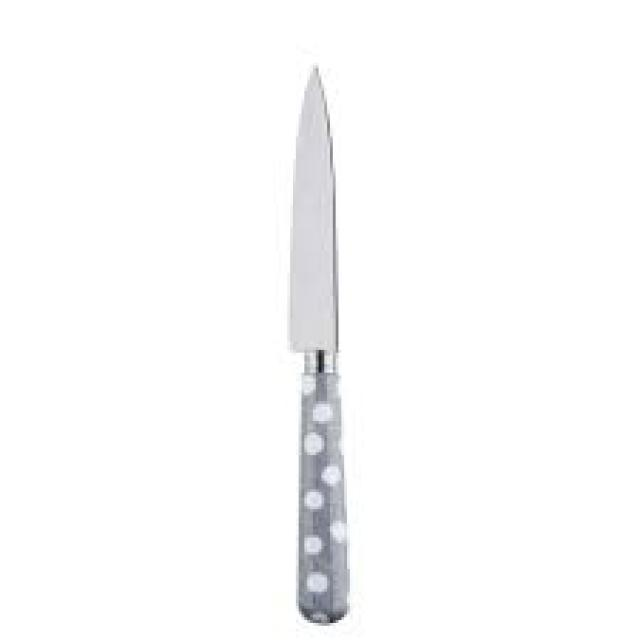Knife: (284, 63, 350, 623)
